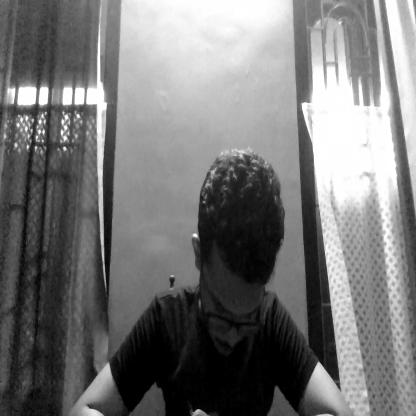Distracted: (194, 143, 283, 362)
